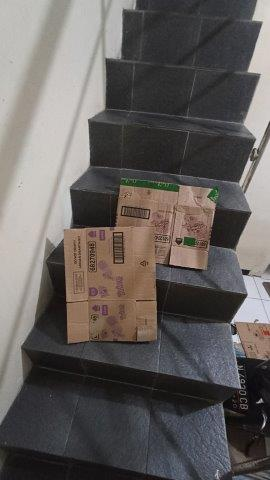kardus: (65, 228, 157, 342), (117, 178, 217, 270), (235, 324, 270, 358)
